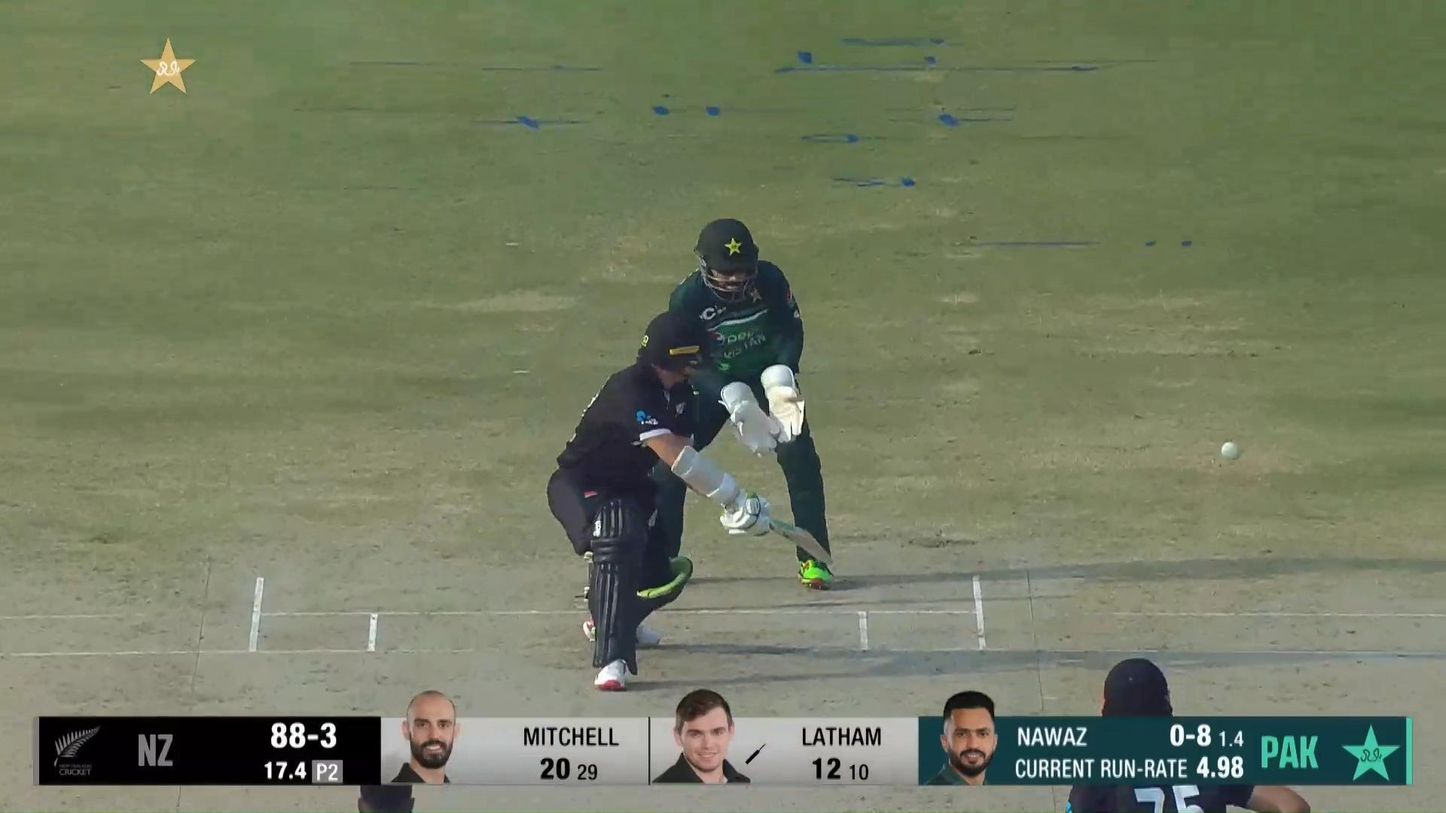BM 1: (545, 311, 833, 691)
BO: (358, 782, 414, 813)
